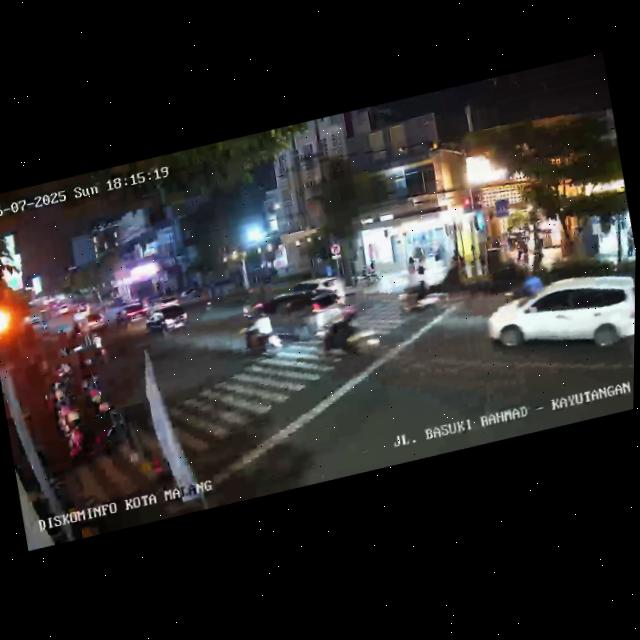car: (483, 261, 636, 375), (245, 280, 346, 352), (293, 269, 349, 314), (142, 296, 190, 339), (109, 297, 149, 328), (72, 306, 107, 335)
motorcycle: (309, 291, 389, 374), (236, 303, 285, 366), (393, 270, 449, 323), (89, 327, 111, 367)
person: (514, 236, 532, 272), (530, 234, 546, 270), (403, 252, 417, 283), (623, 228, 636, 258), (414, 253, 427, 275)
